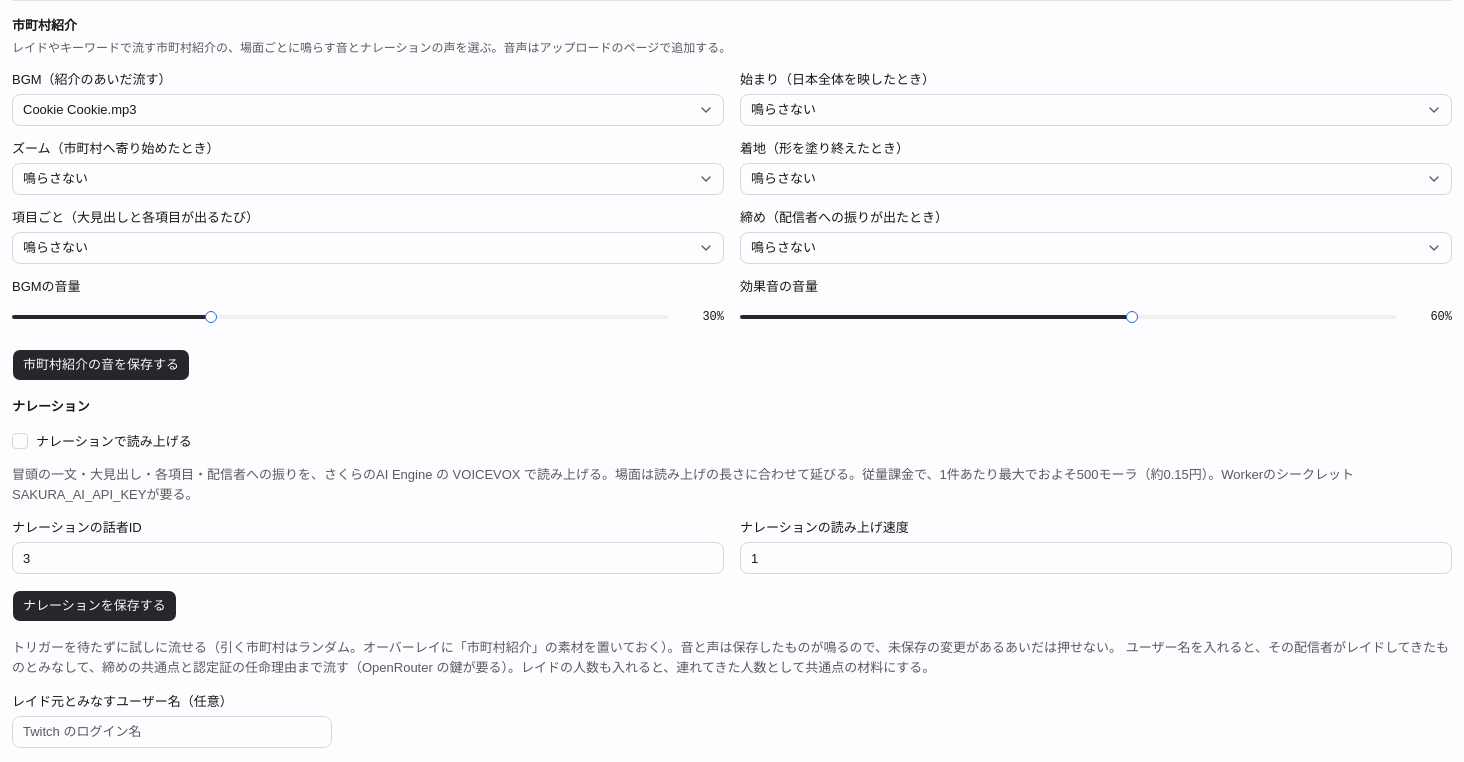
Test: TownTourSoundCard › ユーザー名が空のあいだは、レイドの人数を入れられない（連れてきた相手がいないため）
The width and height of the screenshot is (1464, 762).
Type "hoshino_yu" into the field labelled "レイド元とみなすユーザー名（任意）" at [172, 732], box [12, 716, 332, 748]
(page scrolled)
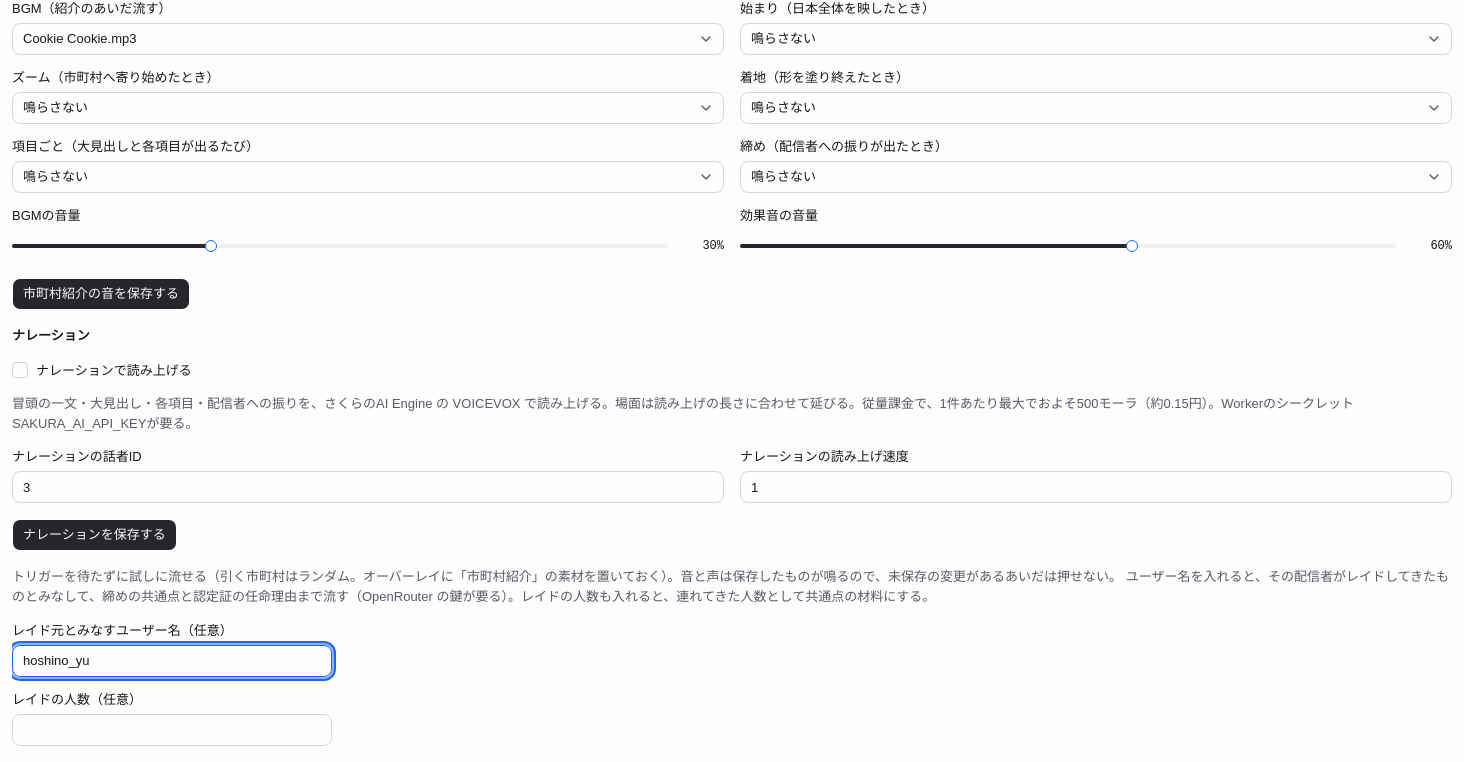
Result: the number field labelled "レイドの人数（任意）" is enabled at [12, 714, 332, 746]
